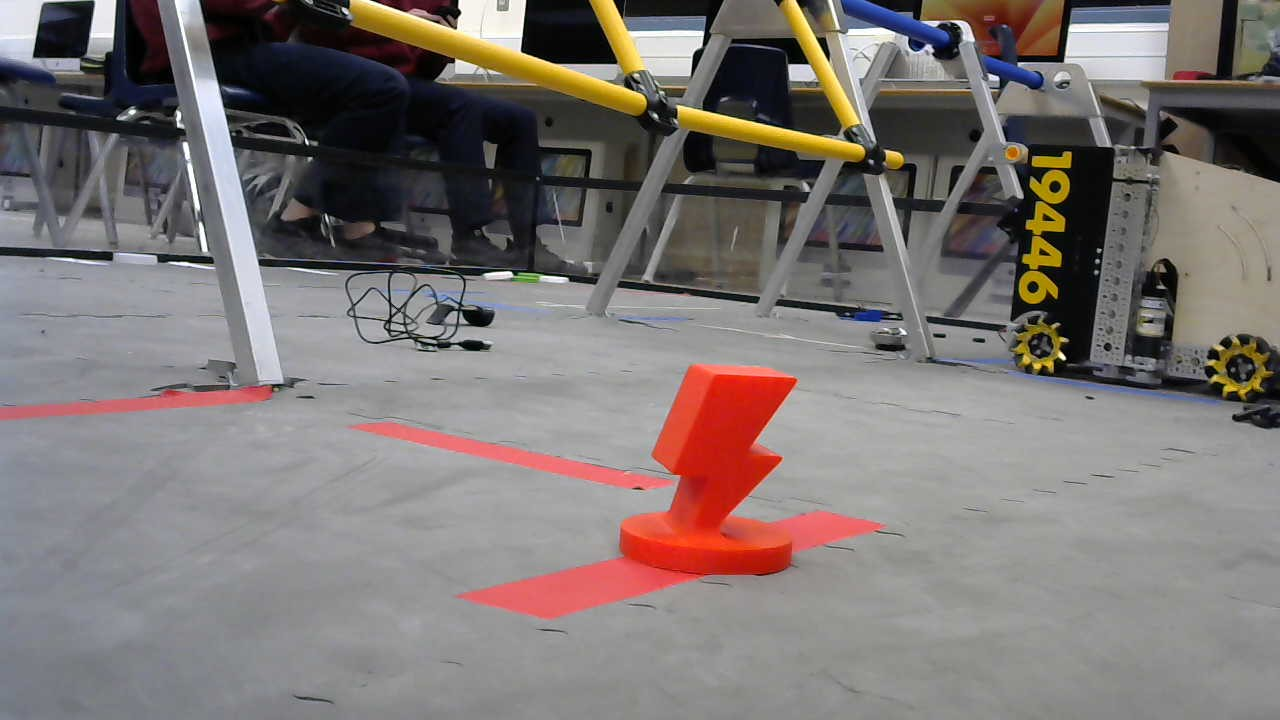redobject: (617, 361, 801, 575)
